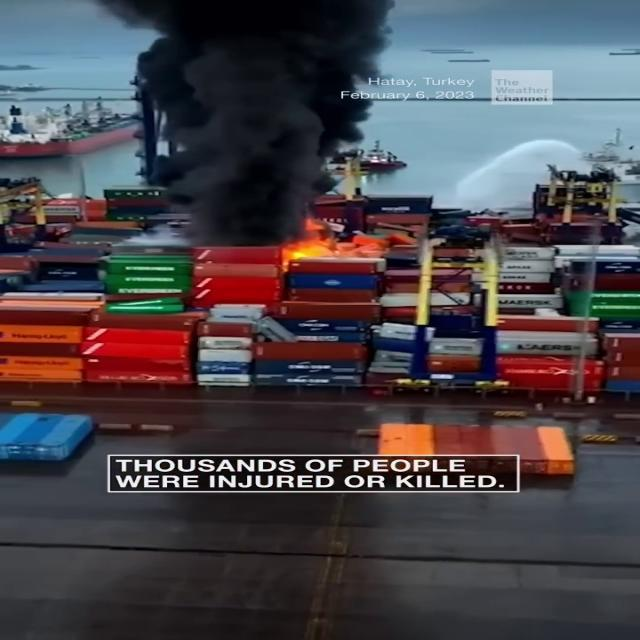Fire: (278, 224, 385, 262)
Smoke: (93, 0, 412, 232)
